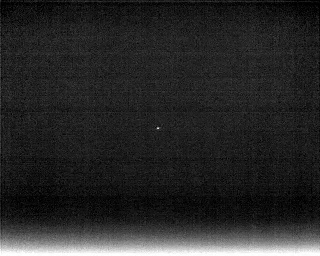AIRPLANE: (154, 124, 162, 133)
